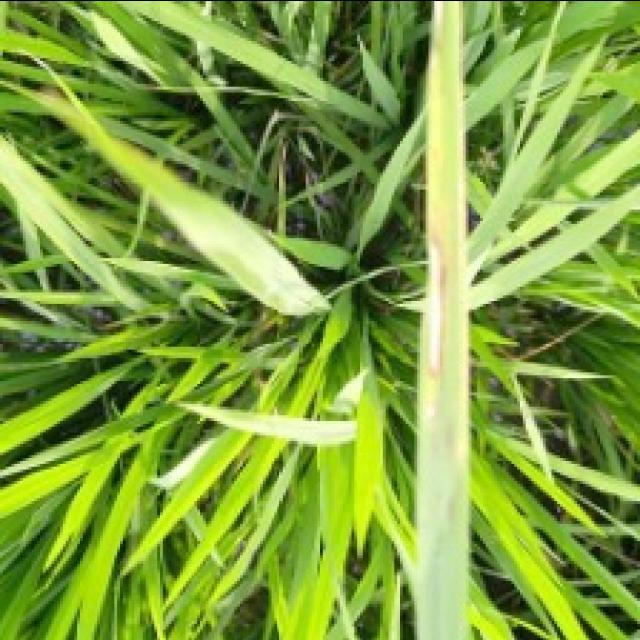Unhealthy: (421, 192, 452, 386), (455, 0, 468, 462), (432, 0, 446, 32), (422, 398, 437, 417)
